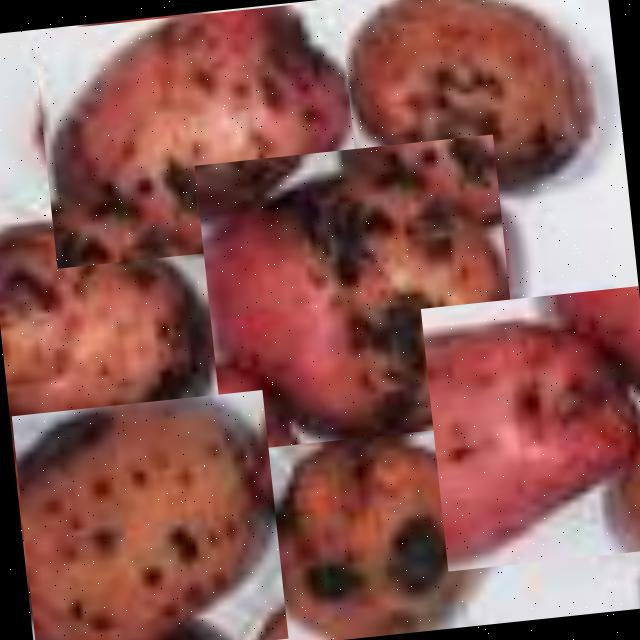Defected potato: (194, 133, 522, 451), (31, 0, 362, 267), (10, 388, 287, 640), (419, 284, 640, 571), (323, 0, 605, 203), (0, 181, 213, 449), (252, 405, 491, 640)
